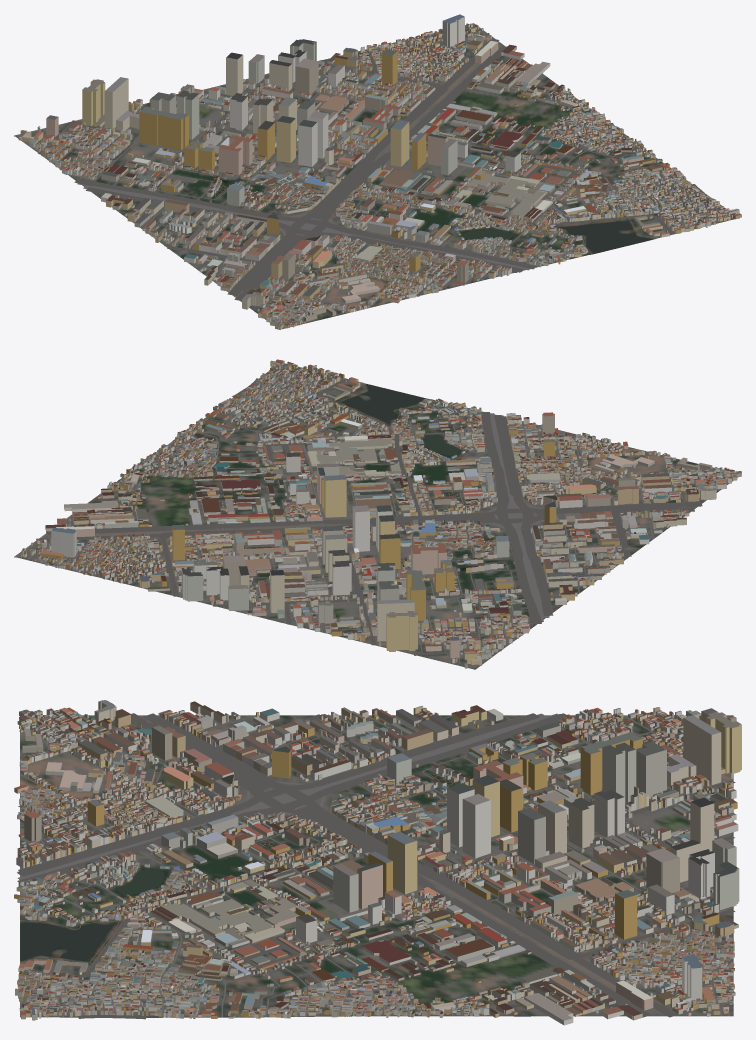
3 renders of one model, top to bottom at view 1: azimuth 30°, elevation 25°; view 2: azimuth 150°, elevation 25°; view 3: azimuth 270°, elevation 25°, orthographic. The views are drawn at different scales.
Parts seen in each view (by area): view 1: walls, roofs, ground, roads, water; view 2: walls, roofs, ground, roads, water; view 3: walls, roofs, ground, roads, water.
Part boxes in pixels (x1,y1,x2,y2): walls: (18, 16, 741, 329); roofs: (19, 14, 741, 326); ground: (14, 23, 739, 329); roads: (28, 24, 720, 328); water: (222, 180, 653, 253); walls: (20, 360, 741, 668); roofs: (21, 359, 741, 665); ground: (14, 363, 737, 669); roads: (16, 368, 732, 666); water: (342, 383, 465, 570); walls: (14, 701, 741, 1025); roofs: (14, 700, 740, 1020); ground: (20, 715, 733, 1017); roads: (17, 713, 735, 1019); water: (20, 868, 164, 961).
Bounding box in the file's own units: 1473 × 121 × 1430.
